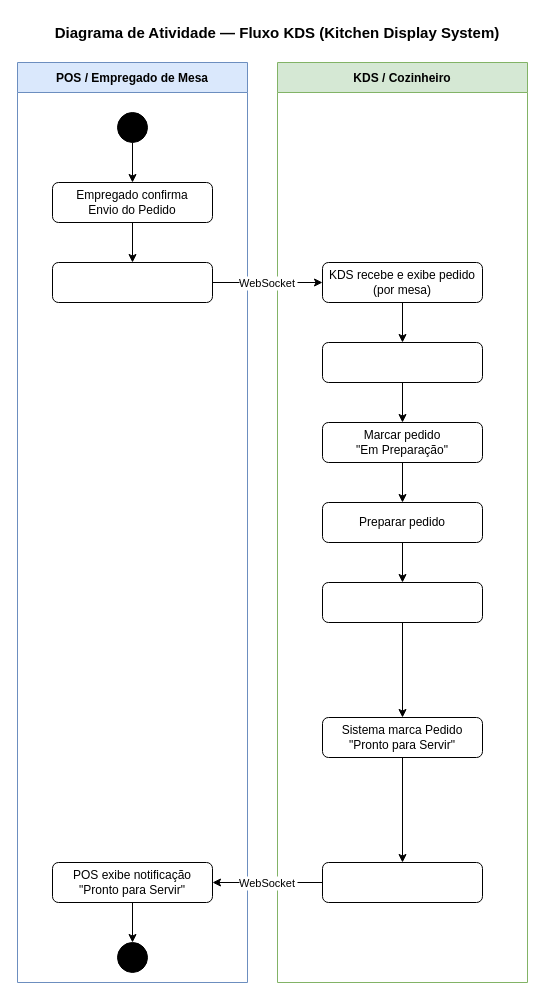
This 545x1000 diagram has some shape labels left out. Here are the shapes that lost their labels. From the top down, the centre of each, then its label:
point 132,282: POS envia pedido via WebSocket
point 402,362: Cozinheiro seleciona pedido
point 402,602: Marcar pedido "Pronto"
point 402,882: Notificar POS via WebSocket
